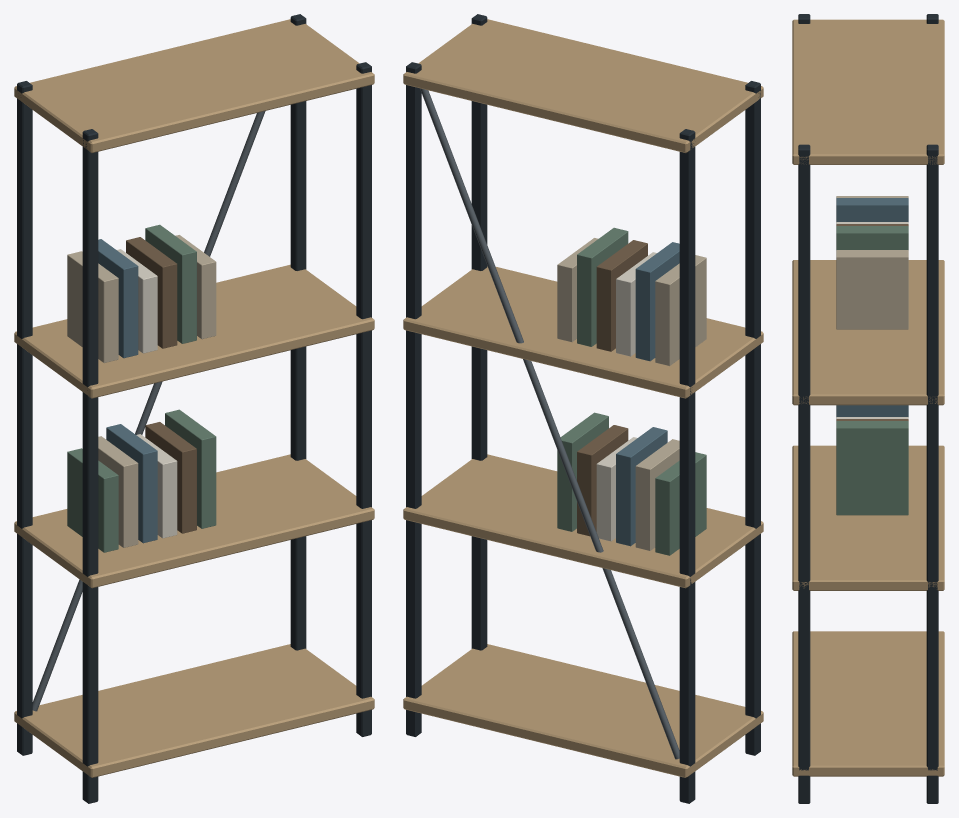
Rendered from bookshelf.glb.
3 views of the same model, side by side, from view 1: azimuth 30°, elevation 25°; view 2: azimuth 150°, elevation 25°; view 3: azimuth 270°, elevation 25° (orthographic). The views are drawn at different scales.
Visible parts, largest first — view 1: bookshelf; view 2: bookshelf; view 3: bookshelf.
Boxes of the visible parts, bbox=[...] form: bookshelf: bbox=[14, 14, 374, 803]; bookshelf: bbox=[403, 14, 763, 803]; bookshelf: bbox=[792, 14, 944, 803].
Bounding box in the file's own units: 0.8 × 1.8 × 0.38.
